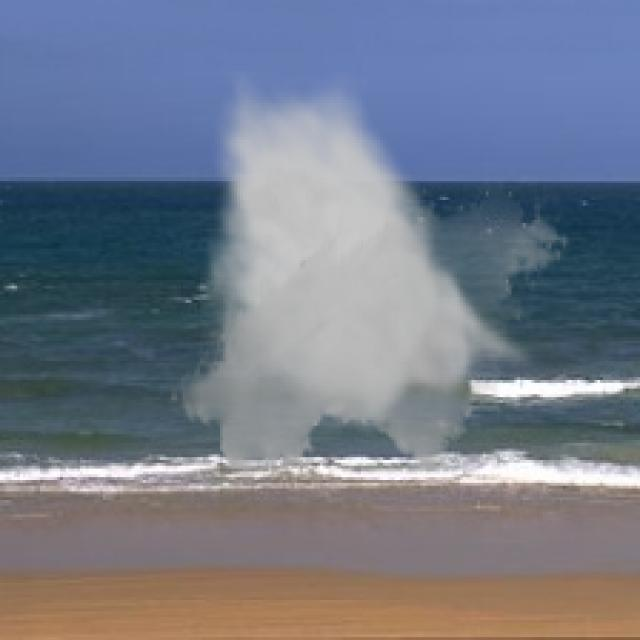smoke: (168, 71, 572, 483)
